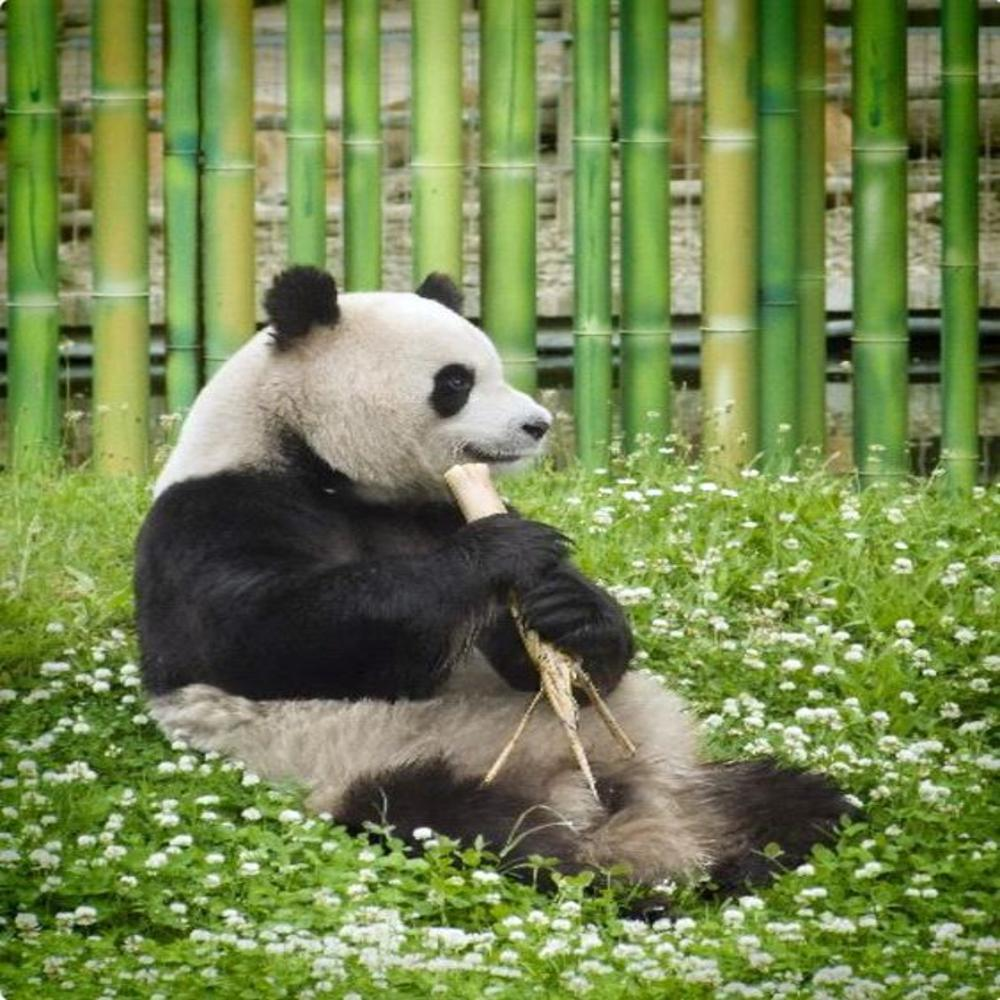panda: (142, 268, 842, 893)
